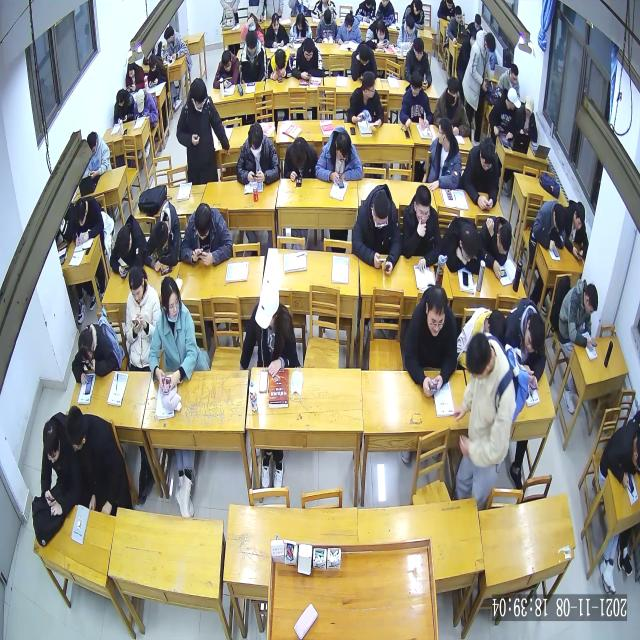bow: (71, 321, 119, 387), (142, 199, 182, 273), (110, 210, 148, 278), (440, 213, 482, 274), (478, 212, 514, 280), (530, 200, 566, 254), (350, 38, 378, 82), (212, 46, 240, 88), (266, 46, 294, 82), (366, 17, 390, 51)
down: (464, 331, 494, 383), (254, 279, 282, 331), (424, 282, 448, 340), (64, 404, 88, 456), (522, 313, 546, 357), (42, 420, 62, 468), (458, 220, 478, 264), (370, 189, 390, 233), (193, 200, 213, 240), (188, 76, 210, 112), (76, 328, 96, 366), (247, 120, 266, 158), (150, 218, 170, 254), (127, 264, 145, 304), (290, 135, 308, 171), (334, 130, 352, 166), (478, 138, 496, 174), (496, 222, 514, 258), (115, 224, 133, 258), (582, 280, 598, 318), (550, 203, 566, 236), (74, 195, 88, 228), (571, 200, 585, 232), (86, 130, 100, 158), (302, 36, 316, 64), (245, 30, 259, 56), (358, 40, 372, 66), (412, 38, 426, 64), (483, 31, 497, 57), (220, 47, 233, 73), (134, 87, 146, 113), (274, 46, 286, 72), (374, 16, 386, 42), (524, 94, 536, 120), (508, 63, 520, 88), (294, 9, 306, 32), (342, 10, 354, 32), (115, 88, 126, 110), (270, 10, 280, 32), (126, 60, 136, 80), (147, 53, 157, 73), (322, 8, 332, 28), (454, 4, 464, 24), (473, 13, 481, 33)
lookup: (412, 184, 432, 228), (444, 76, 460, 108), (247, 14, 257, 34)
sit: (454, 330, 514, 502), (64, 404, 131, 516), (147, 273, 200, 397), (402, 282, 458, 398), (238, 276, 298, 378), (176, 77, 230, 186), (352, 180, 402, 276), (123, 260, 163, 370), (504, 294, 548, 394), (40, 410, 78, 520), (462, 29, 497, 140), (400, 184, 442, 276), (180, 201, 233, 269), (556, 278, 600, 352), (314, 124, 364, 188), (598, 414, 640, 490), (422, 116, 462, 194), (234, 121, 281, 187), (460, 136, 500, 212), (346, 68, 386, 130), (434, 75, 472, 139), (399, 68, 433, 132), (70, 193, 106, 247), (488, 86, 522, 142), (283, 131, 319, 181), (238, 29, 268, 85), (563, 196, 589, 260), (291, 36, 325, 82), (404, 37, 432, 89), (85, 132, 112, 180), (336, 6, 364, 48), (519, 92, 539, 144), (134, 87, 158, 127), (163, 23, 186, 64), (264, 13, 290, 49), (396, 10, 420, 46), (289, 10, 313, 45), (113, 88, 135, 126), (316, 8, 338, 46), (446, 5, 466, 46), (146, 52, 168, 88), (124, 58, 144, 94)
